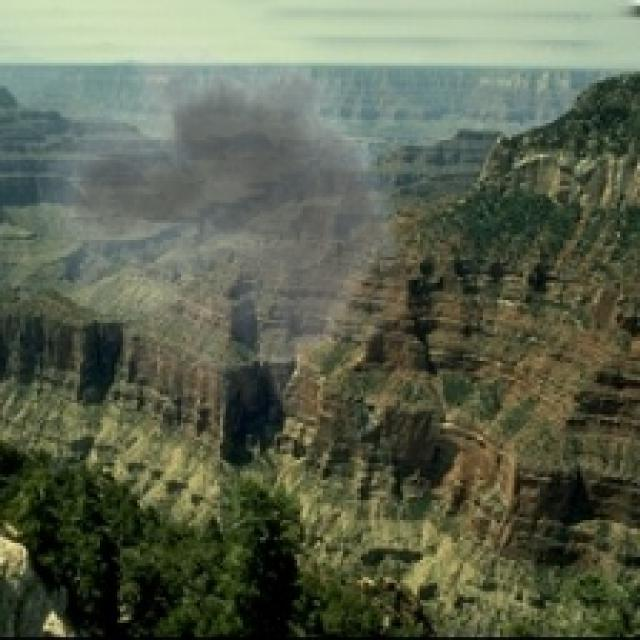Smoke: (34, 22, 420, 412)
